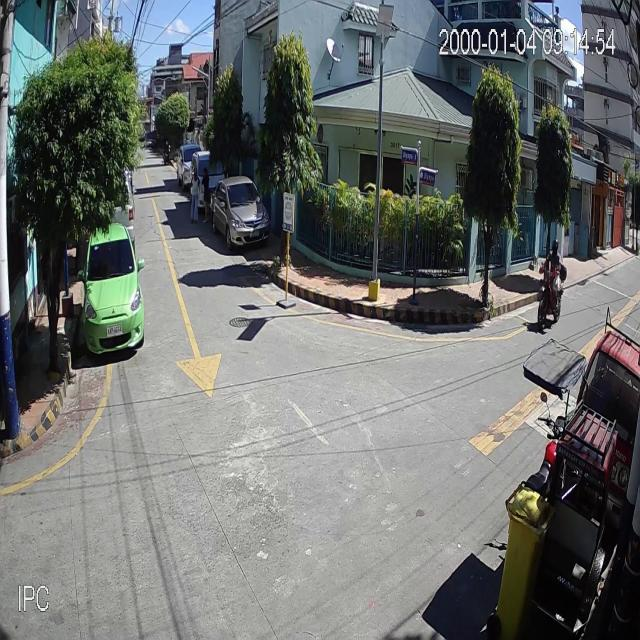walking: (200, 165, 212, 223), (190, 166, 201, 224)
